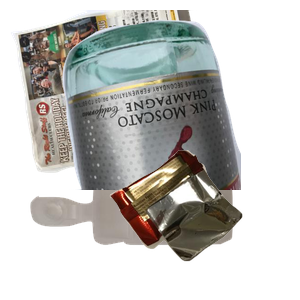glass: (60, 17, 300, 197)
paper: (10, 10, 210, 175)
plastic: (28, 176, 253, 300)
trash: (107, 148, 300, 300)
